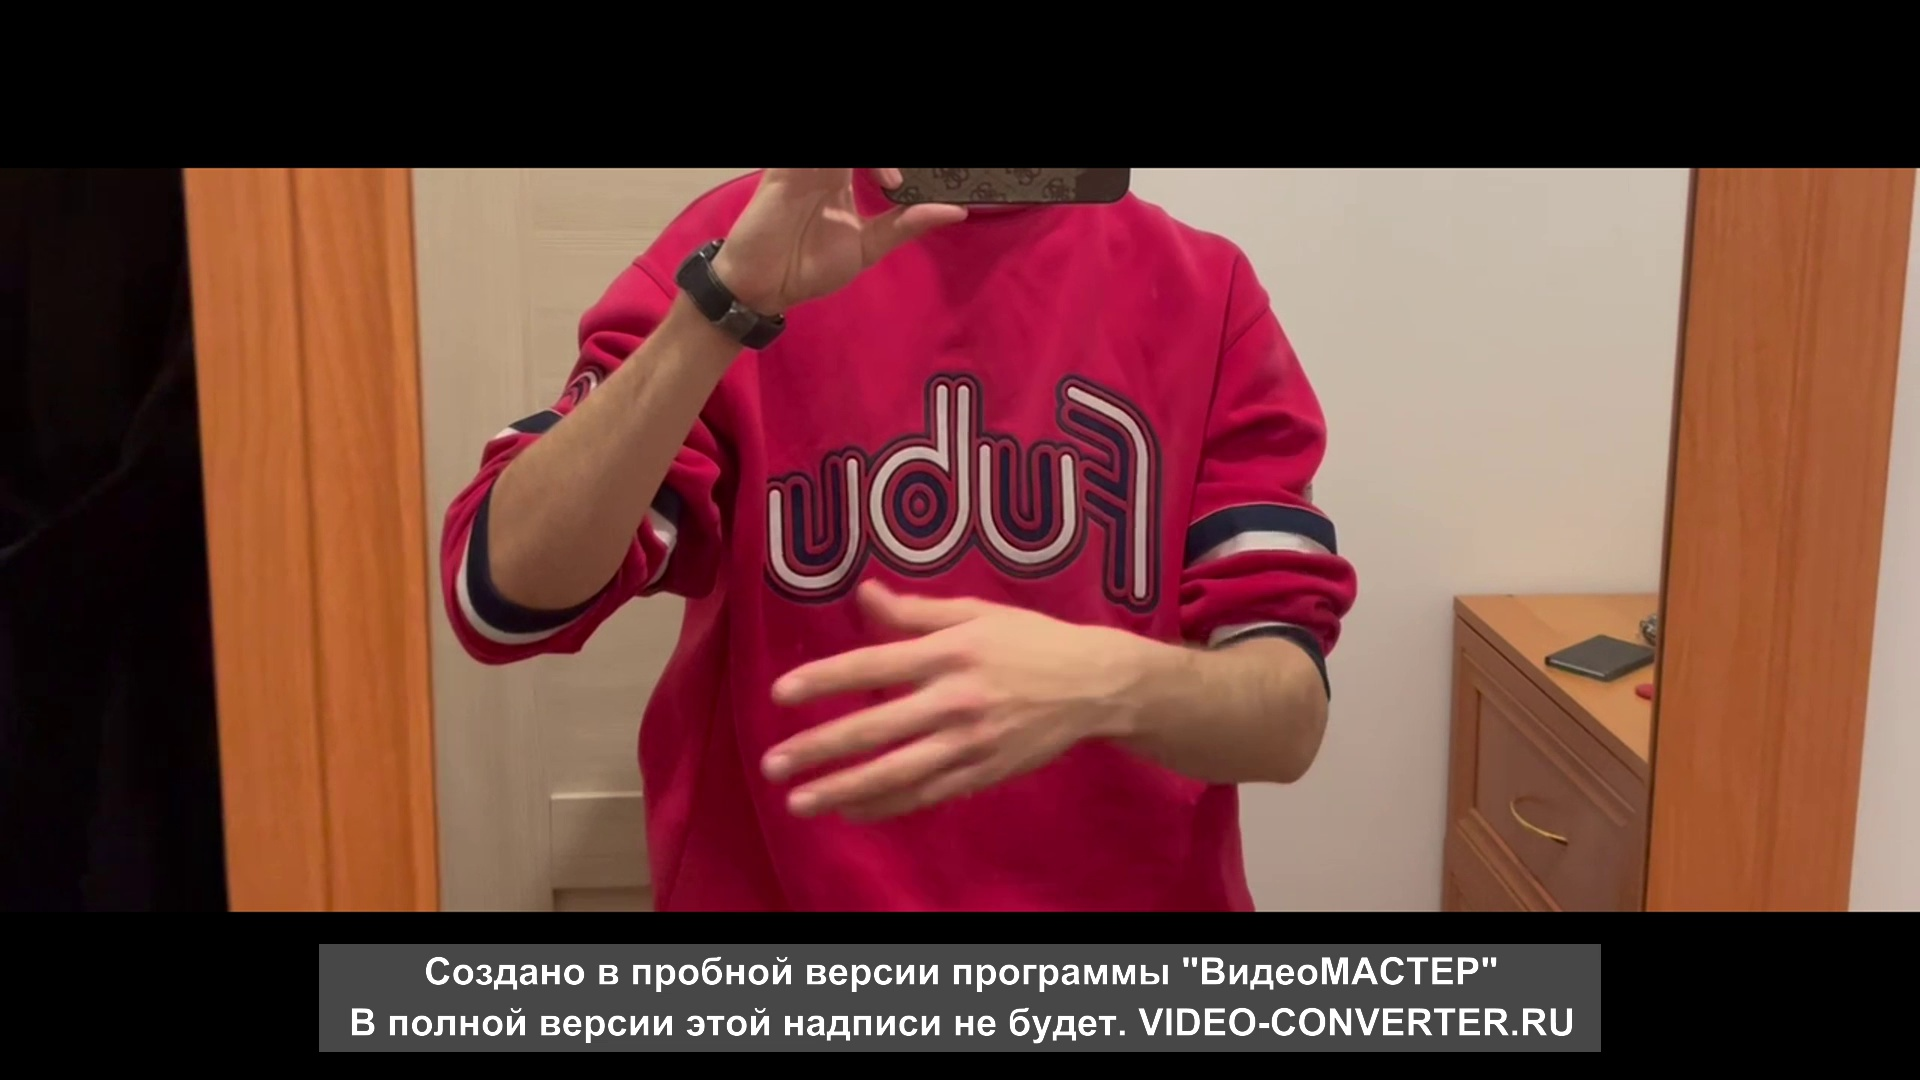Кисть: (757, 578, 1096, 822)
